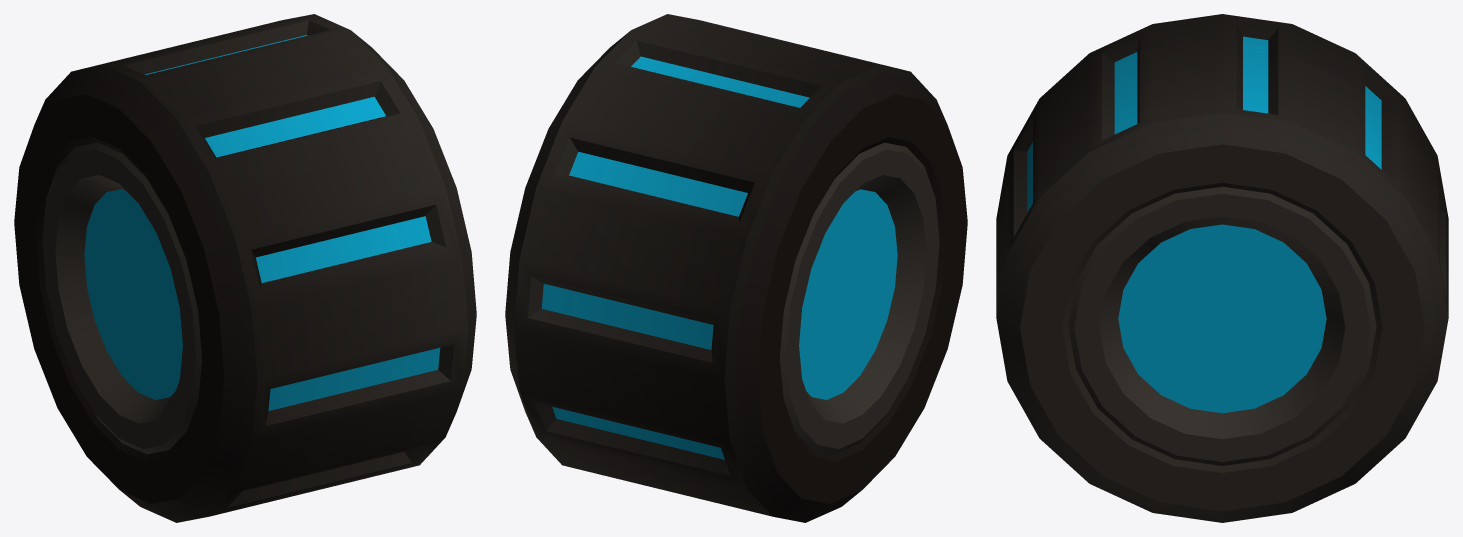
Rendered from Shotgun4_Magazine.fbx.
The picture shows the model from 3 angles, left to right: view 1: azimuth 30°, elevation 25°; view 2: azimuth 150°, elevation 25°; view 3: azimuth 270°, elevation 25°; orthographic projection. The views are drawn at different scales.
Visible parts, largest first — view 1: Shotgun4_Magazine; view 2: Shotgun4_Magazine; view 3: Shotgun4_Magazine.
Boxes of the visible parts, <box> form: Shotgun4_Magazine: <box>14,14,476,522</box>; Shotgun4_Magazine: <box>505,14,967,522</box>; Shotgun4_Magazine: <box>996,14,1448,522</box>.
Size of the model in its own units: 8.89 by 14.3 by 14.3.
